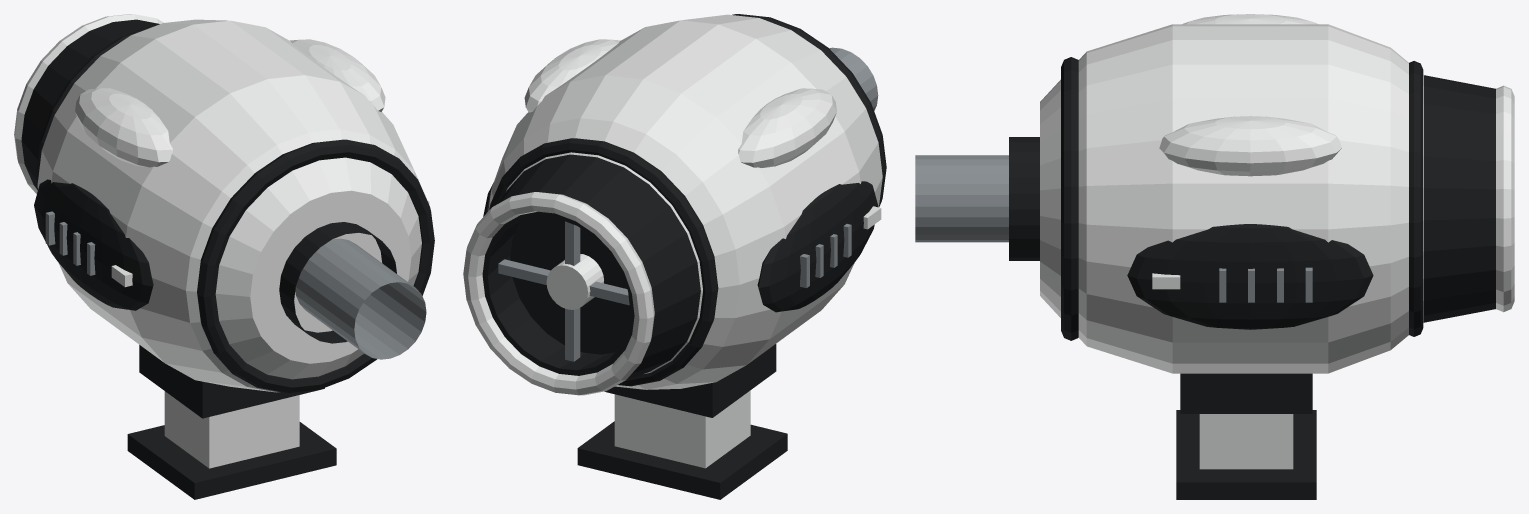
The model's file is turbine_body.obj.
3 views of the same model, side by side, from view 1: azimuth 30°, elevation 25°; view 2: azimuth 150°, elevation 25°; view 3: azimuth 270°, elevation 25° (orthographic). The views are drawn at different scales.
Bounding box in the file's own units: 0.48 × 0.6 × 0.769.
